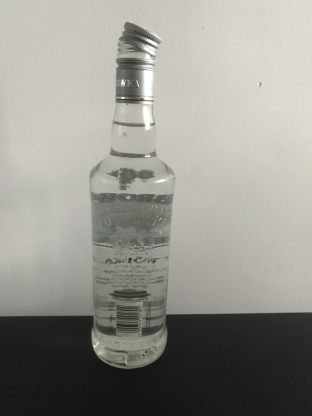nakretka: (114, 18, 162, 105)
